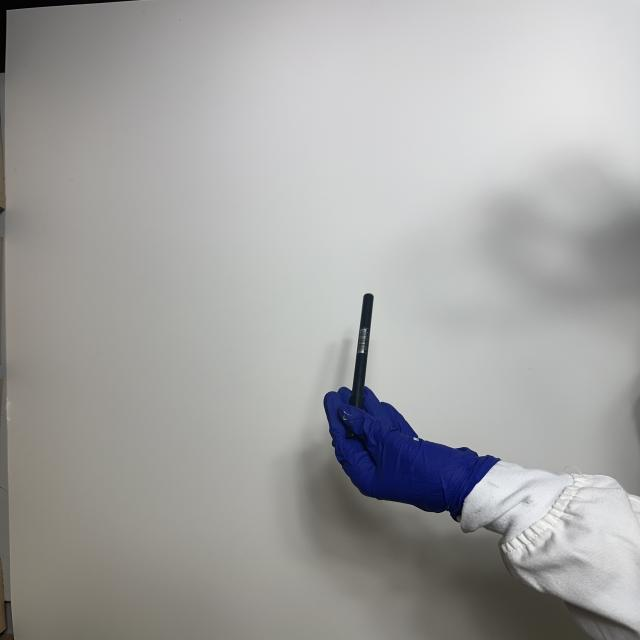gloves_contaminated: (325, 388, 499, 520)
